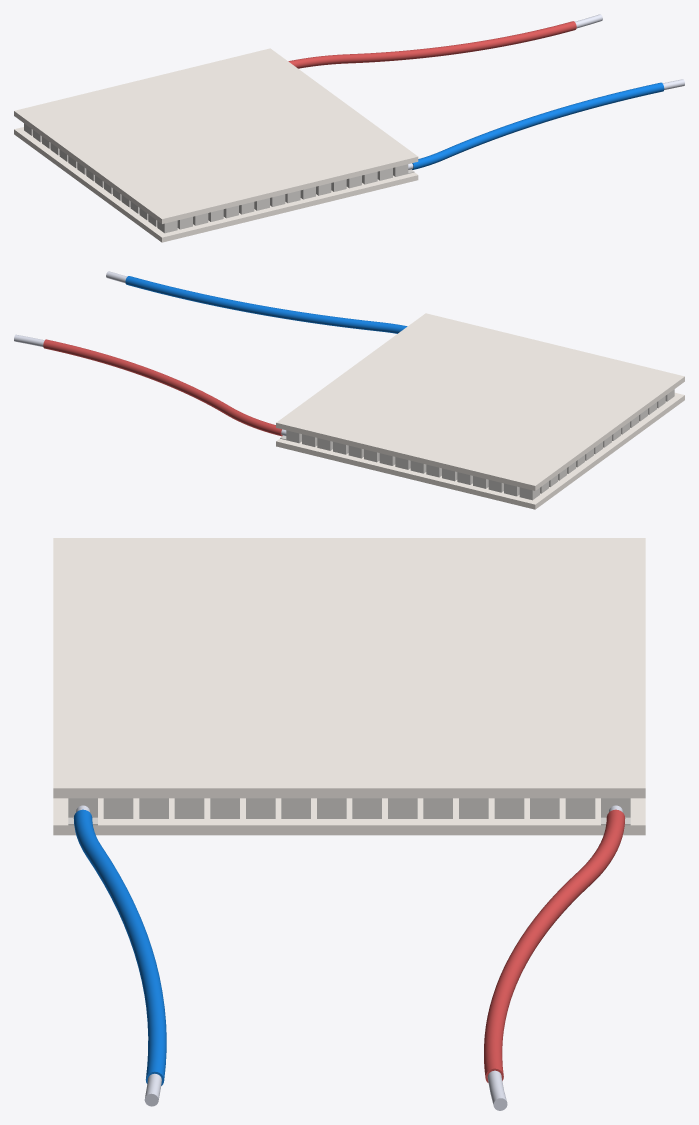
The model's file is Peltier.glb.
3 views of the same model, one above another, from view 1: azimuth 30°, elevation 25°; view 2: azimuth 150°, elevation 25°; view 3: azimuth 270°, elevation 25° (orthographic). The views are drawn at different scales.
Visible parts, largest first — view 1: Peltier; view 2: Peltier; view 3: Peltier.
Boxes of the visible parts, <box> form: Peltier: <box>14,14,684,242</box>; Peltier: <box>14,271,684,509</box>; Peltier: <box>53,538,645,1110</box>.
Size of the model in its own units: 0.086 by 0.0035 by 0.04.
